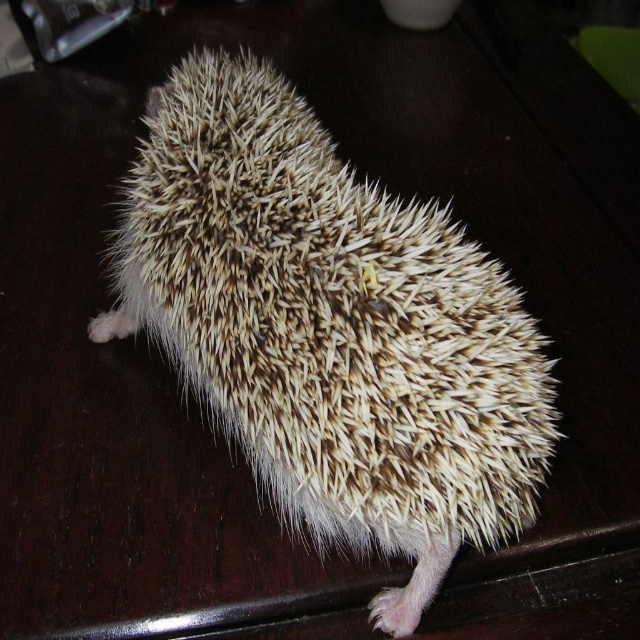Hedgehog: (84, 34, 568, 639)
